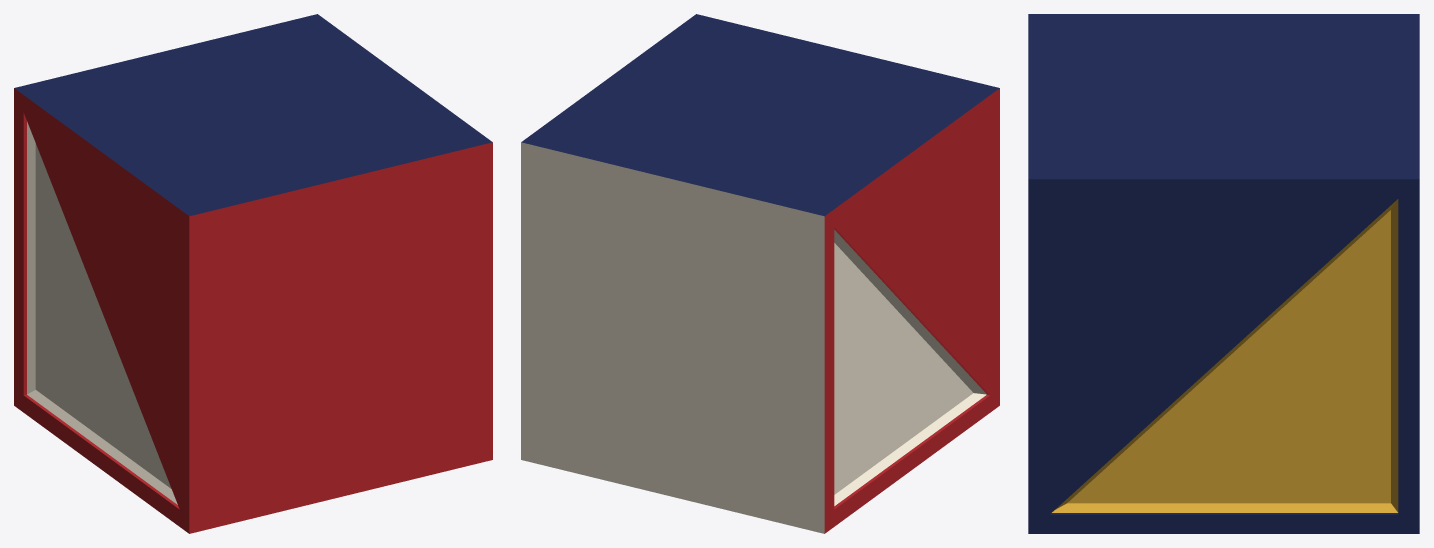
The model's file is color-cube.obj.
The picture shows the model from 3 angles, left to right: view 1: azimuth 30°, elevation 25°; view 2: azimuth 150°, elevation 25°; view 3: azimuth 270°, elevation 25°; orthographic projection. The views are drawn at different scales.
Parts seen in each view (by area): view 1: cube-red, cube-blue, cube-split-rw-red, cube-split-rw-white; view 2: cube-white, cube-blue, cube-split-rw-red, cube-split-rw-white; view 3: cube-split-by-blue, cube-blue, cube-split-by-yellow.
Boxes of the visible parts, x1,y1,x2,y2 form: cube-red: [189, 142, 492, 533]; cube-blue: [14, 14, 492, 216]; cube-split-rw-red: [14, 88, 189, 533]; cube-split-rw-white: [27, 121, 177, 504]; cube-white: [521, 142, 824, 533]; cube-blue: [521, 14, 999, 216]; cube-split-rw-red: [824, 88, 999, 533]; cube-split-rw-white: [834, 230, 986, 505]; cube-split-by-blue: [1028, 179, 1419, 533]; cube-blue: [1028, 14, 1419, 179]; cube-split-by-yellow: [1052, 199, 1398, 512].
Size of the model in its own units: 26.95 by 26.95 by 26.95.
